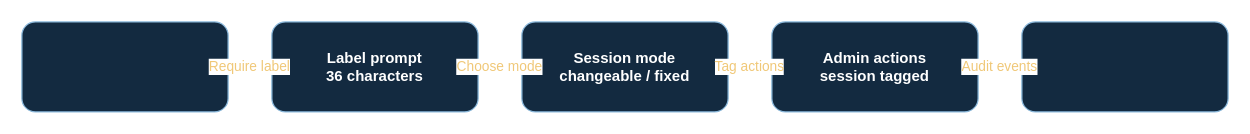
Some shapes in this 1250 by 134 pixel diagram are drawn without their labels. Here are the shapes that lost their labels. From the top down, the centre of each, then its label:
At (x=124, y=66): "Admin login new session".
At (x=1124, y=66): "Event Log Custom Session ID".
